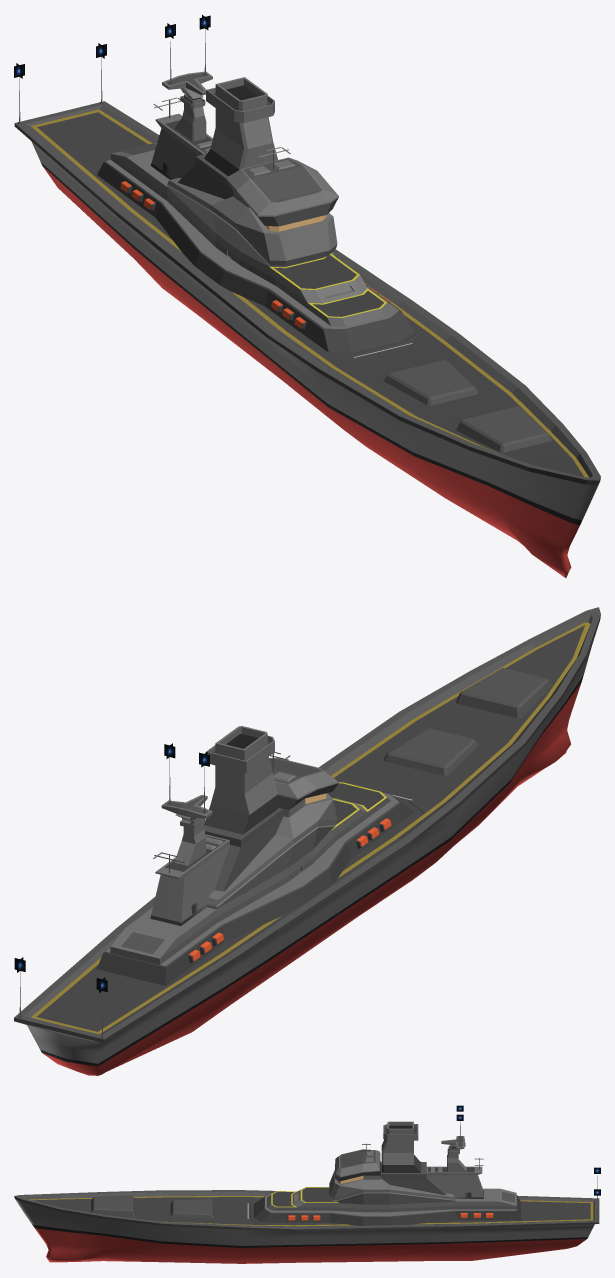
The model's file is model_polyfleet_battleship03.fbx.
3 renders of one model, top to bottom at view 1: azimuth 30°, elevation 25°; view 2: azimuth 150°, elevation 25°; view 3: azimuth 270°, elevation 25°, orthographic. The views are drawn at different scales.
Visible parts, largest first — view 1: model_batteship03, emissivelight; view 2: model_batteship03, emissivelight; view 3: model_batteship03, emissivelight.
Boxes of the visible parts, x1,y1,x2,y2 form: model_batteship03: (14,25,600,577); emissivelight: (14,15,326,231); model_batteship03: (14,607,600,1075); emissivelight: (14,743,326,992); model_batteship03: (14,1121,599,1263); emissivelight: (337,1105,600,1195).
Size of the model in its own units: 1230 by 2299 by 8035.
